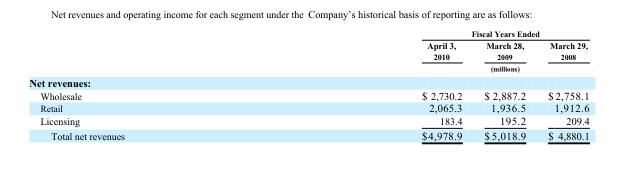table: (28, 28, 588, 141)
table column: (28, 28, 272, 141), (272, 28, 472, 141), (472, 28, 536, 141), (536, 28, 588, 141)
table column header: (28, 28, 588, 74)
table projected row header: (28, 74, 588, 88)
table row: (28, 38, 588, 62), (28, 74, 588, 88), (28, 127, 588, 141), (28, 88, 588, 101), (28, 101, 588, 114), (28, 114, 588, 127), (28, 62, 588, 74), (28, 28, 588, 38)
table spanning cell: (272, 62, 588, 74), (272, 28, 588, 38)
